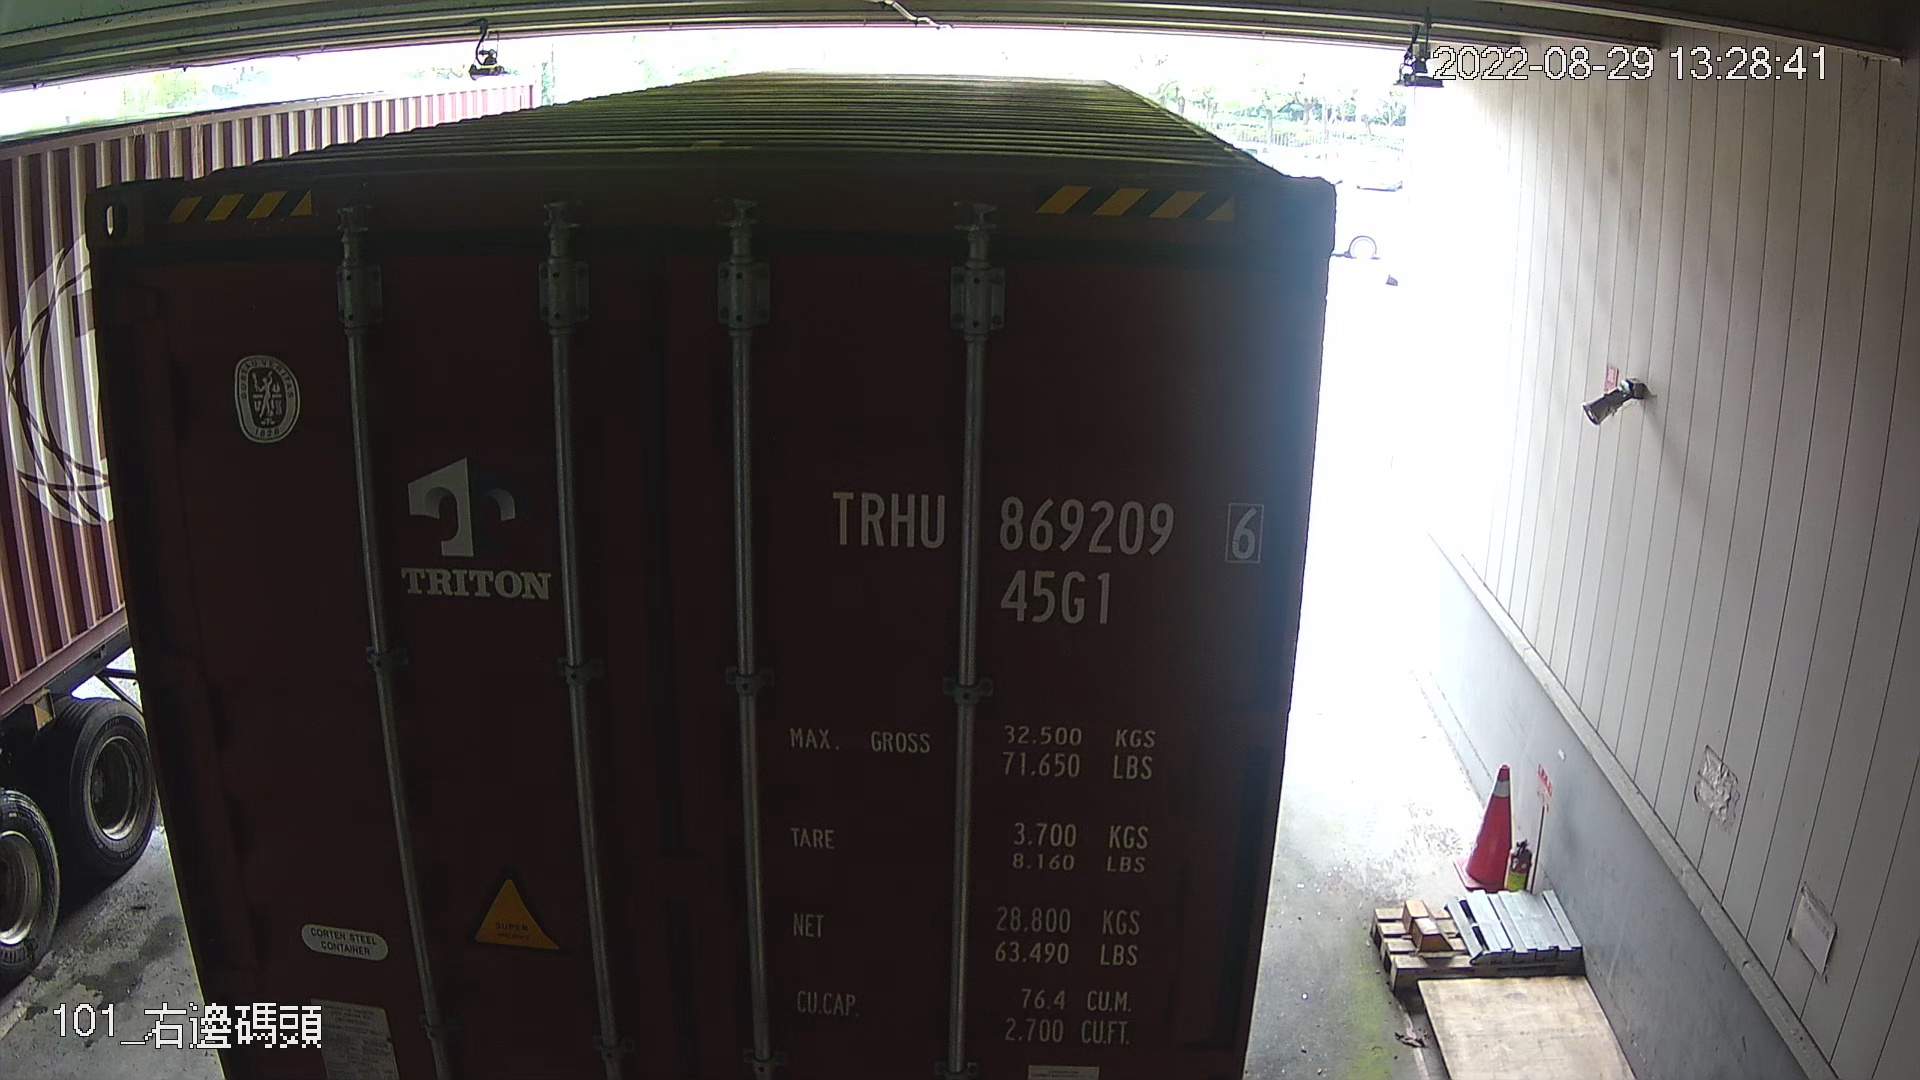container: (810, 471, 1284, 637)
